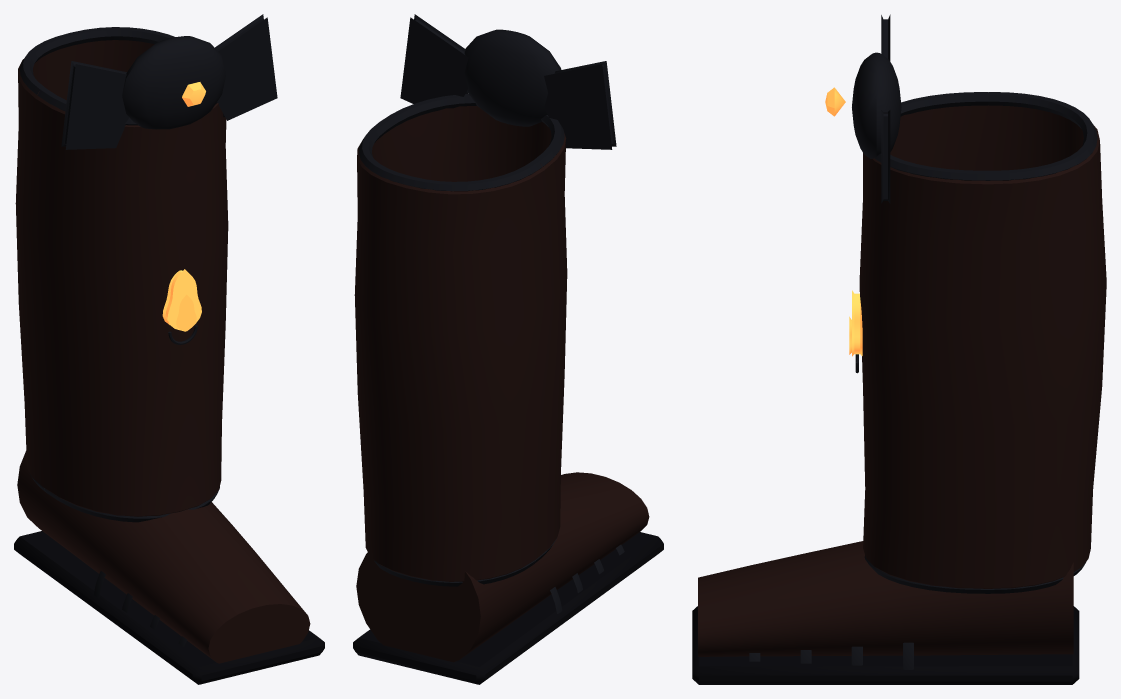
Rendered from esc_ender_of_tomes_boots_R.glb.
The picture shows the model from 3 angles, left to right: view 1: azimuth 30°, elevation 25°; view 2: azimuth 150°, elevation 25°; view 3: azimuth 270°, elevation 25°; orthographic projection. The views are drawn at different scales.
Visible parts, largest first — view 1: esc_ender_of_tomes_boots, AT_foot_R; view 2: esc_ender_of_tomes_boots, AT_foot_R; view 3: esc_ender_of_tomes_boots, AT_foot_R.
Boxes of the visible parts, bbox=[...] form: esc_ender_of_tomes_boots: bbox=[15, 14, 277, 522]; AT_foot_R: bbox=[14, 451, 324, 684]; esc_ender_of_tomes_boots: bbox=[354, 14, 616, 586]; AT_foot_R: bbox=[353, 472, 663, 684]; esc_ender_of_tomes_boots: bbox=[825, 14, 1106, 593]; AT_foot_R: bbox=[692, 541, 1079, 684].
Bounding box in the file's own units: 0.2244 × 0.5768 × 0.3641.
